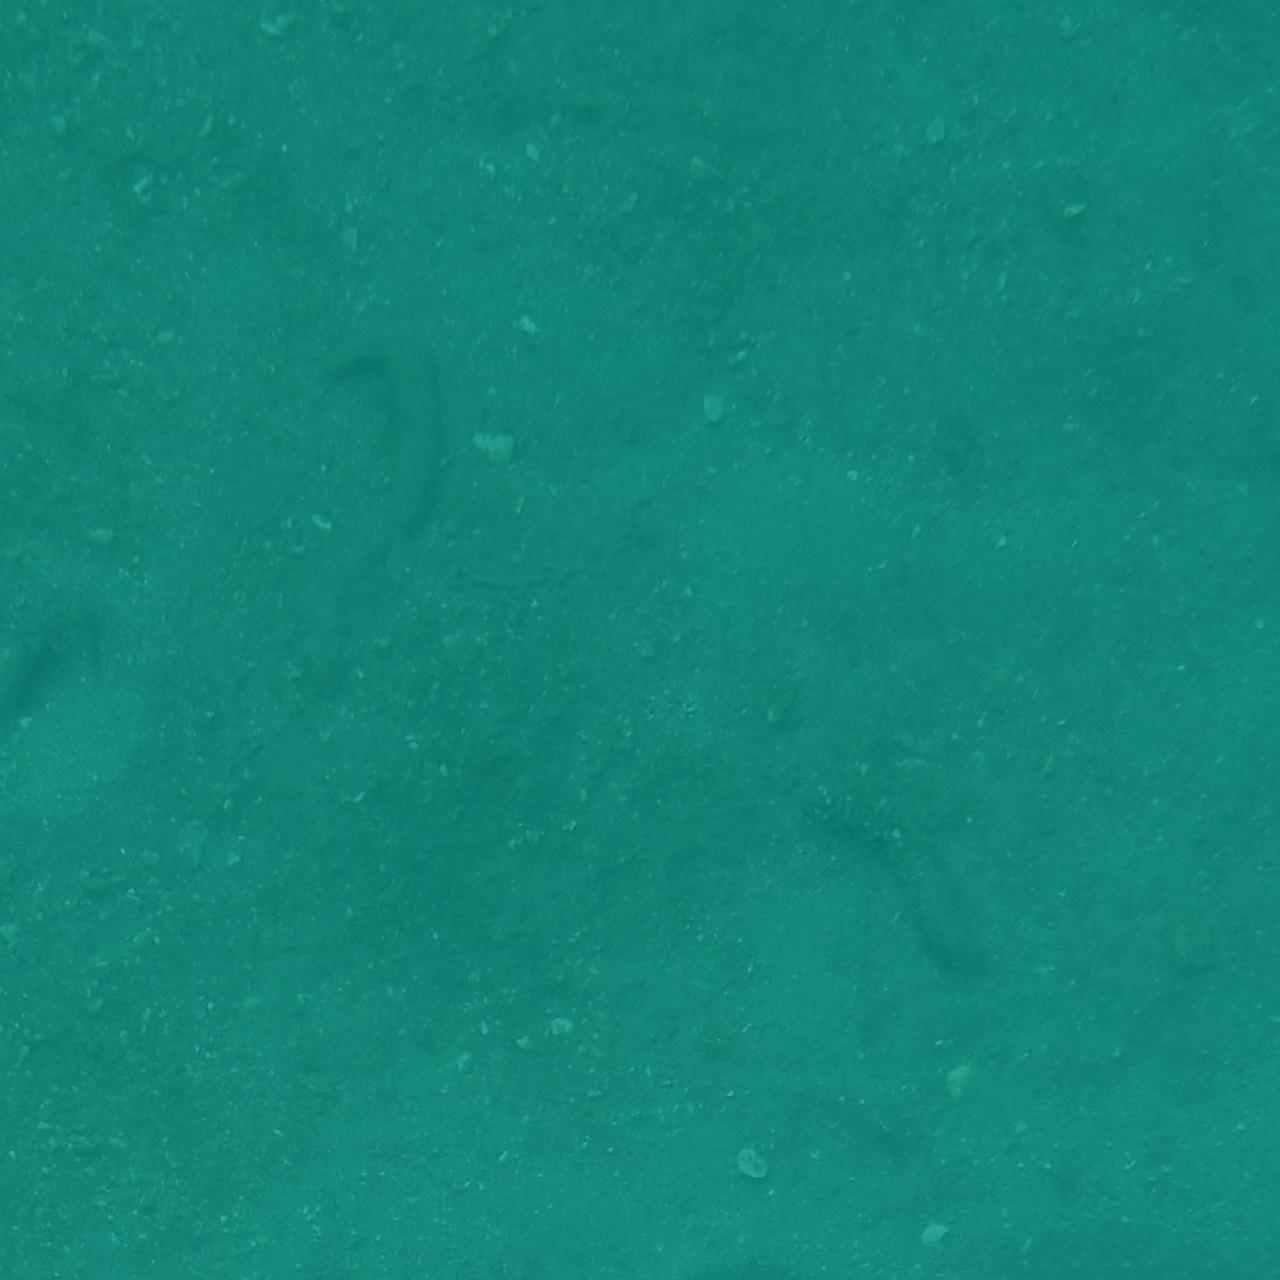Holothuria tubulosa: (758, 738, 1014, 976), (336, 327, 454, 520)
